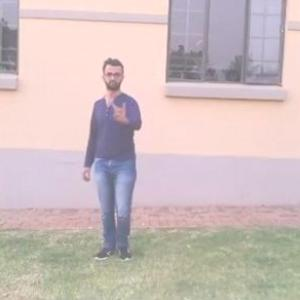takeoff-hand: (107, 94, 133, 128)
